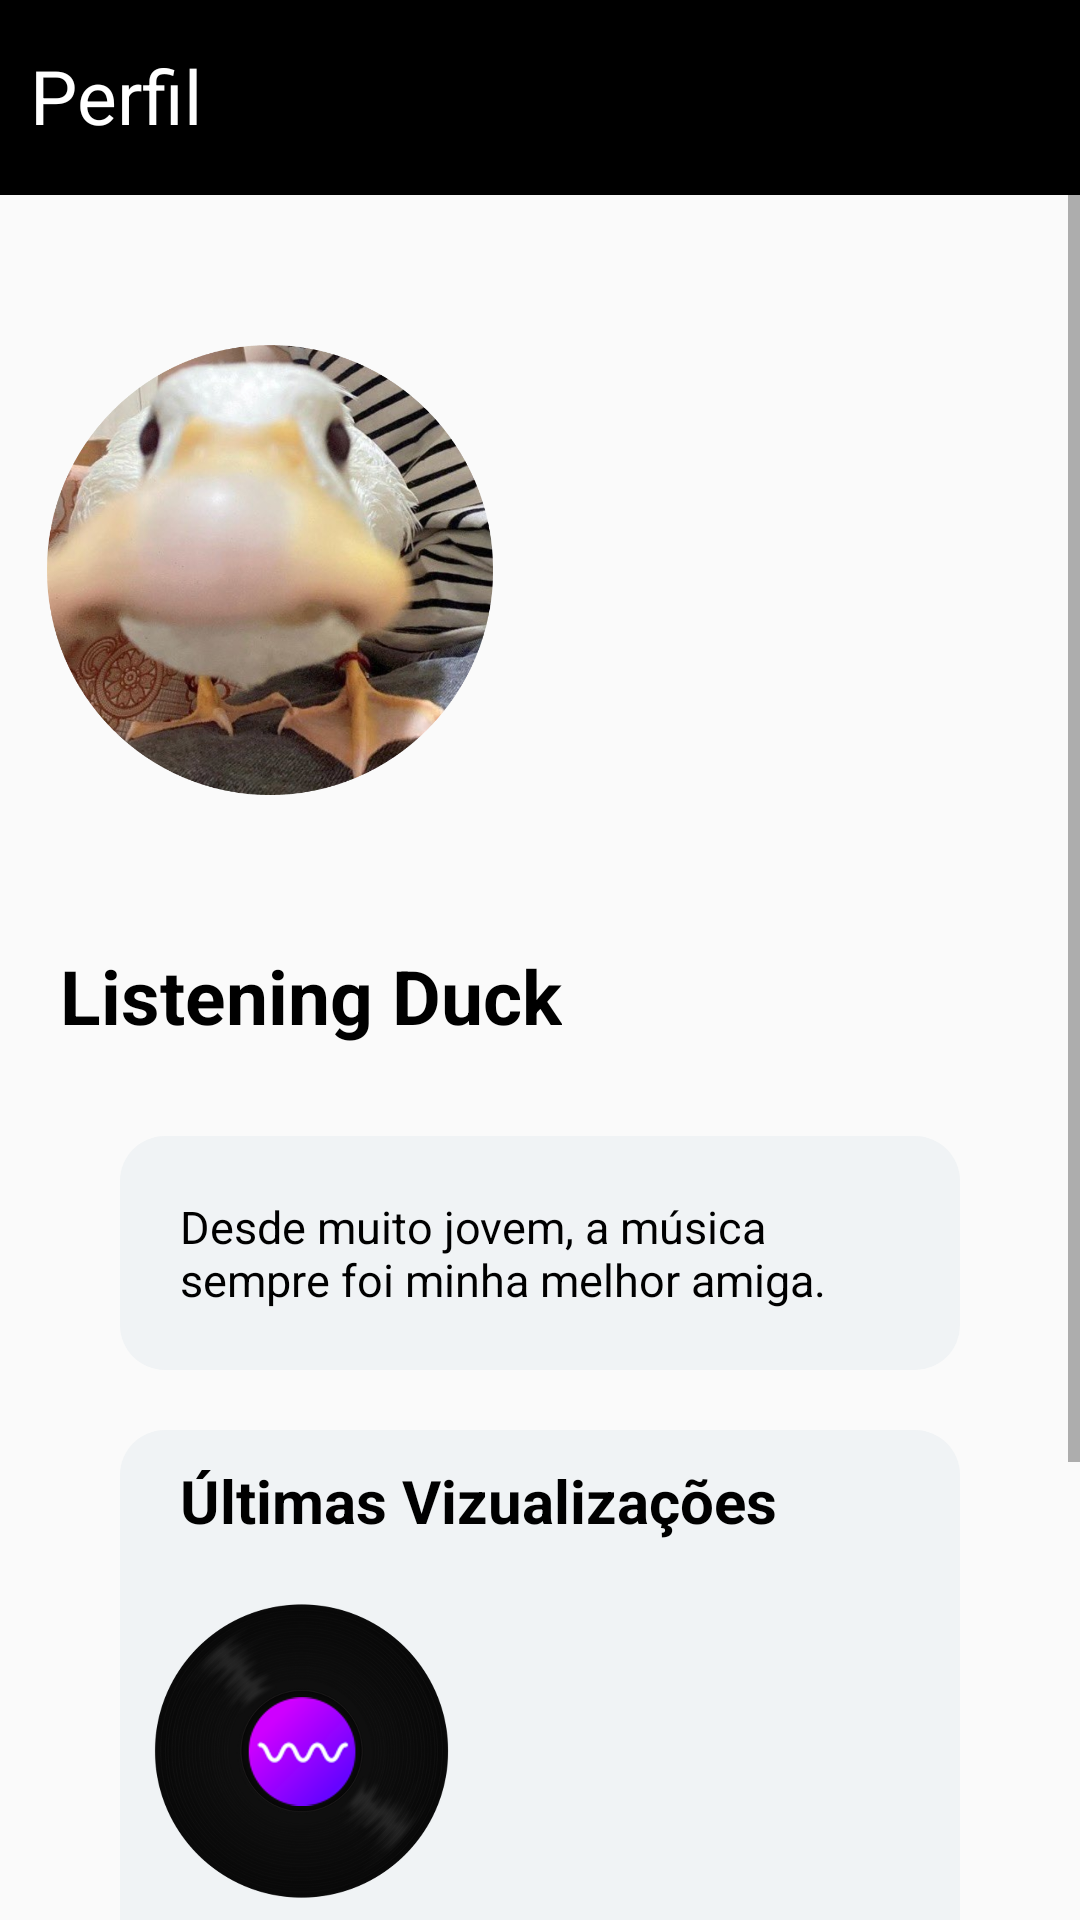

Icon bounding boxes for this 1080×1920 phone screenshot, format (x1, y1, x2, y2):
disco: (155, 1604, 448, 1898)
